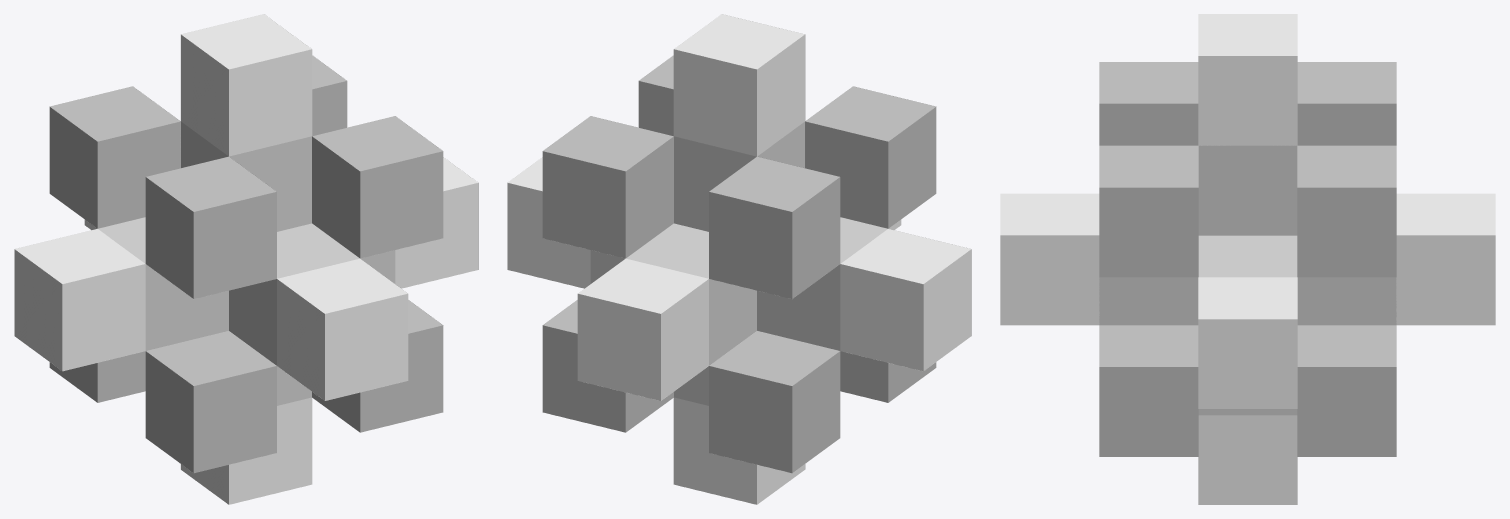
The model's file is SanguineWrathProjectile.obj.
The picture shows the model from 3 angles, left to right: view 1: azimuth 30°, elevation 25°; view 2: azimuth 150°, elevation 25°; view 3: azimuth 270°, elevation 25°; orthographic projection. The views are drawn at different scales.
Visible parts, largest first — view 1: SanguineWrathProjectile; view 2: SanguineWrathProjectile; view 3: SanguineWrathProjectile.
Boxes of the visible parts, x1,y1,x2,y2 form: SanguineWrathProjectile: [14, 14, 478, 504]; SanguineWrathProjectile: [507, 14, 971, 504]; SanguineWrathProjectile: [1000, 14, 1495, 504].
Size of the model in its own units: 5 by 5 by 5.
1 material, 1 textured.
